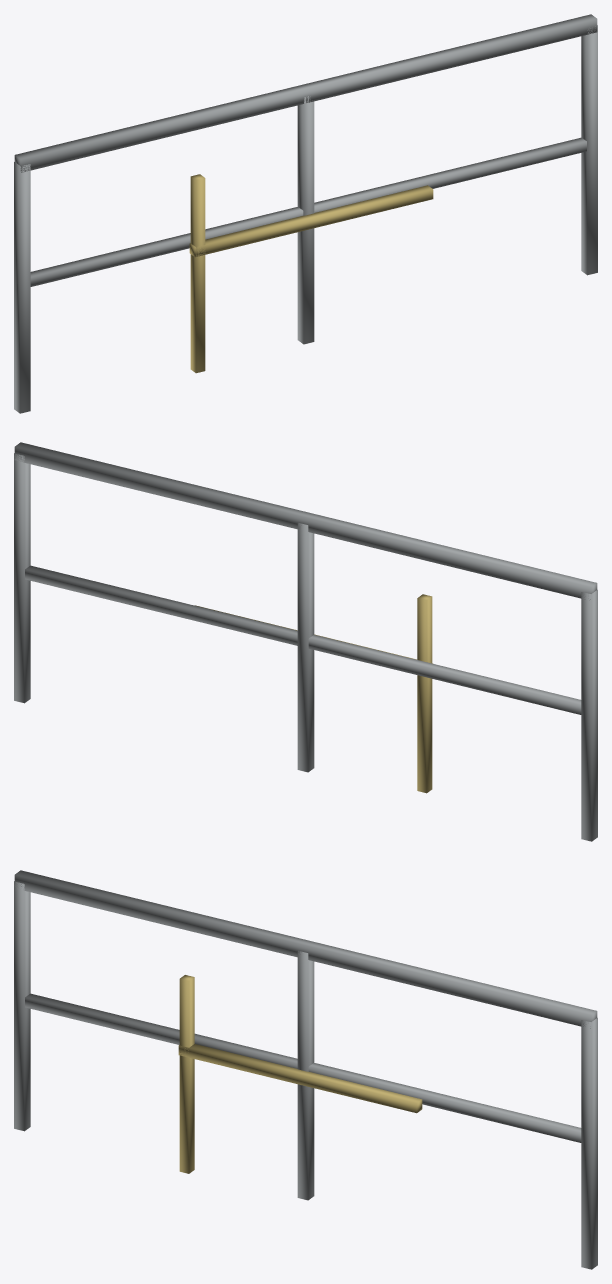
Rendered from residential_gate_l240_h100.glb.
3 renders of one model, top to bottom at view 1: azimuth 30°, elevation 25°; view 2: azimuth 150°, elevation 25°; view 3: azimuth 330°, elevation 25°, orthographic.
Parts seen in each view (by area): view 1: world; view 2: world; view 3: world.
Part boxes in pixels (x1,y1,x2,y2): world: (14,14,597,413); world: (14,442,597,841); world: (14,870,597,1269).
Size of the model in its own units: 2.44 by 1.03 by 0.0825.
